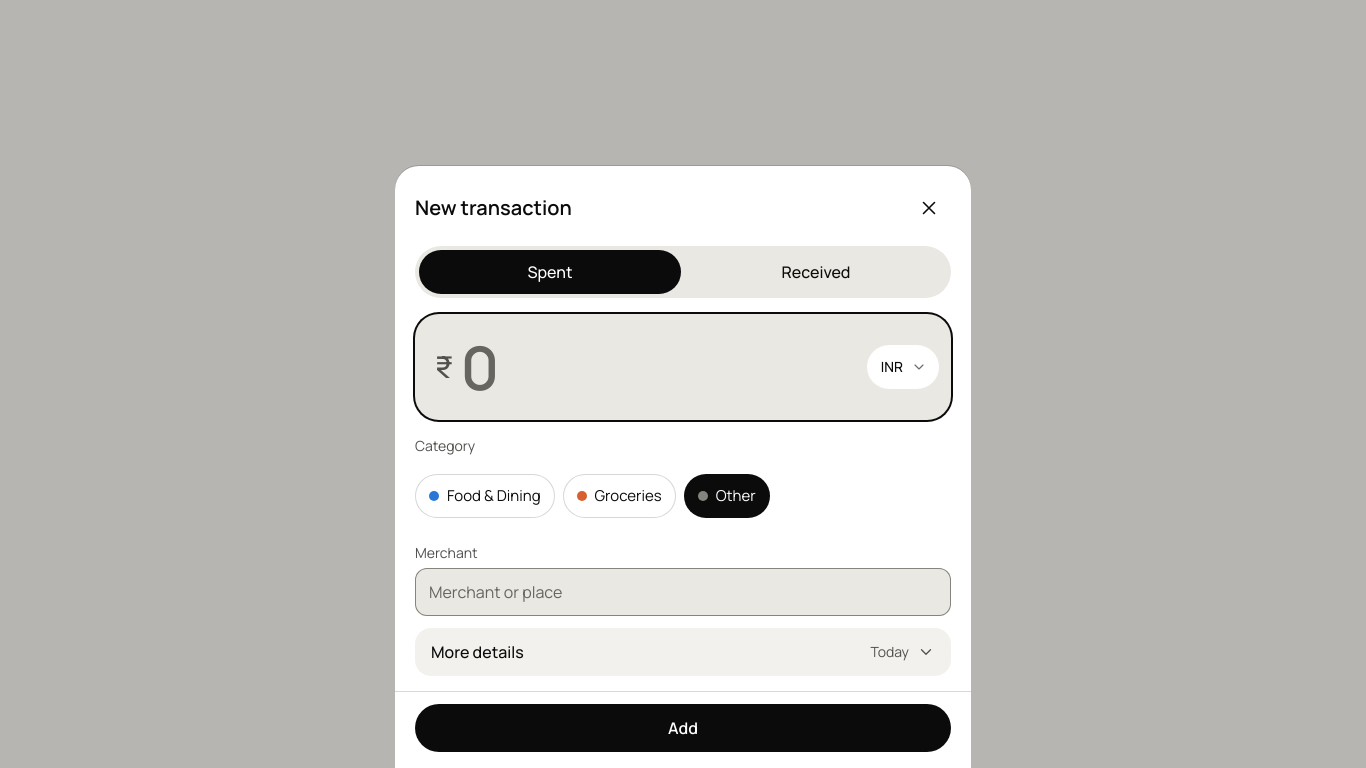
it: Add form: saving › clears the error as soon as the amount is corrected
The width and height of the screenshot is (1366, 768).
Click the button "Add": x=683, y=728 [415,704,951,752]
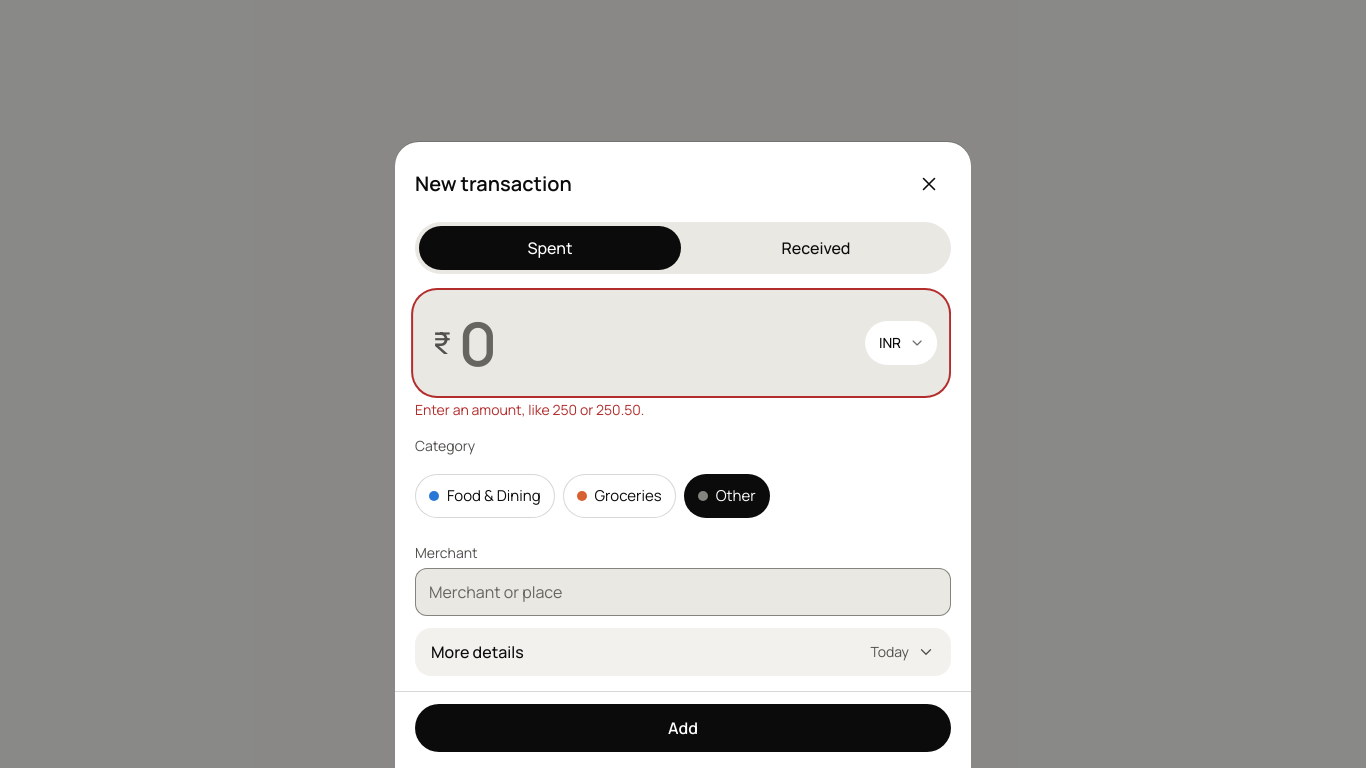
Expected: the message "Enter an amount, like 250 or 250.50." is shown, [415,400,644,419]
In the field named "Amount": x=659, y=343 [460,302,858,384], type "5"
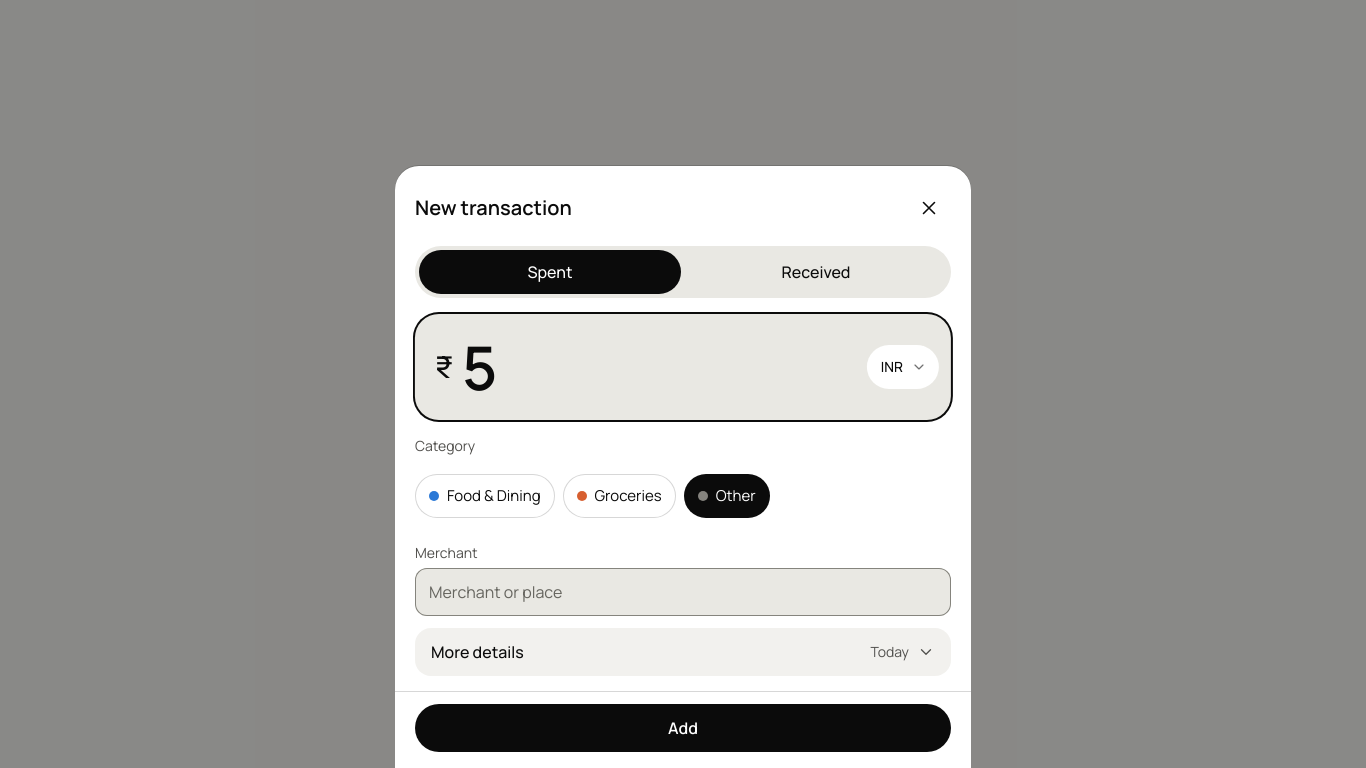
Expected: the message "Enter an amount, like 250 or 250.50." is gone
